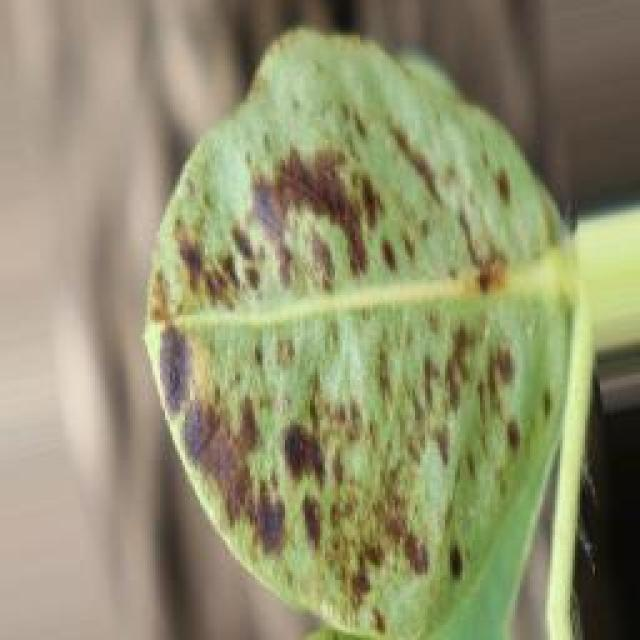Whitefly: (105, 90, 542, 616)
